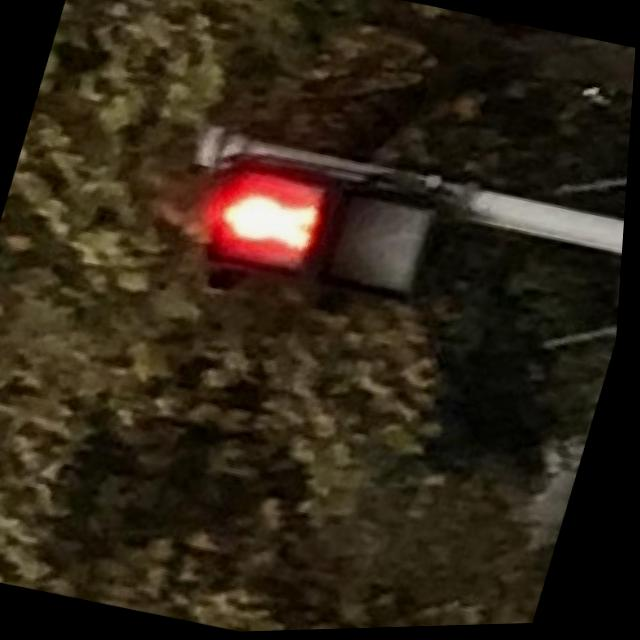red_light: (202, 158, 337, 278)
